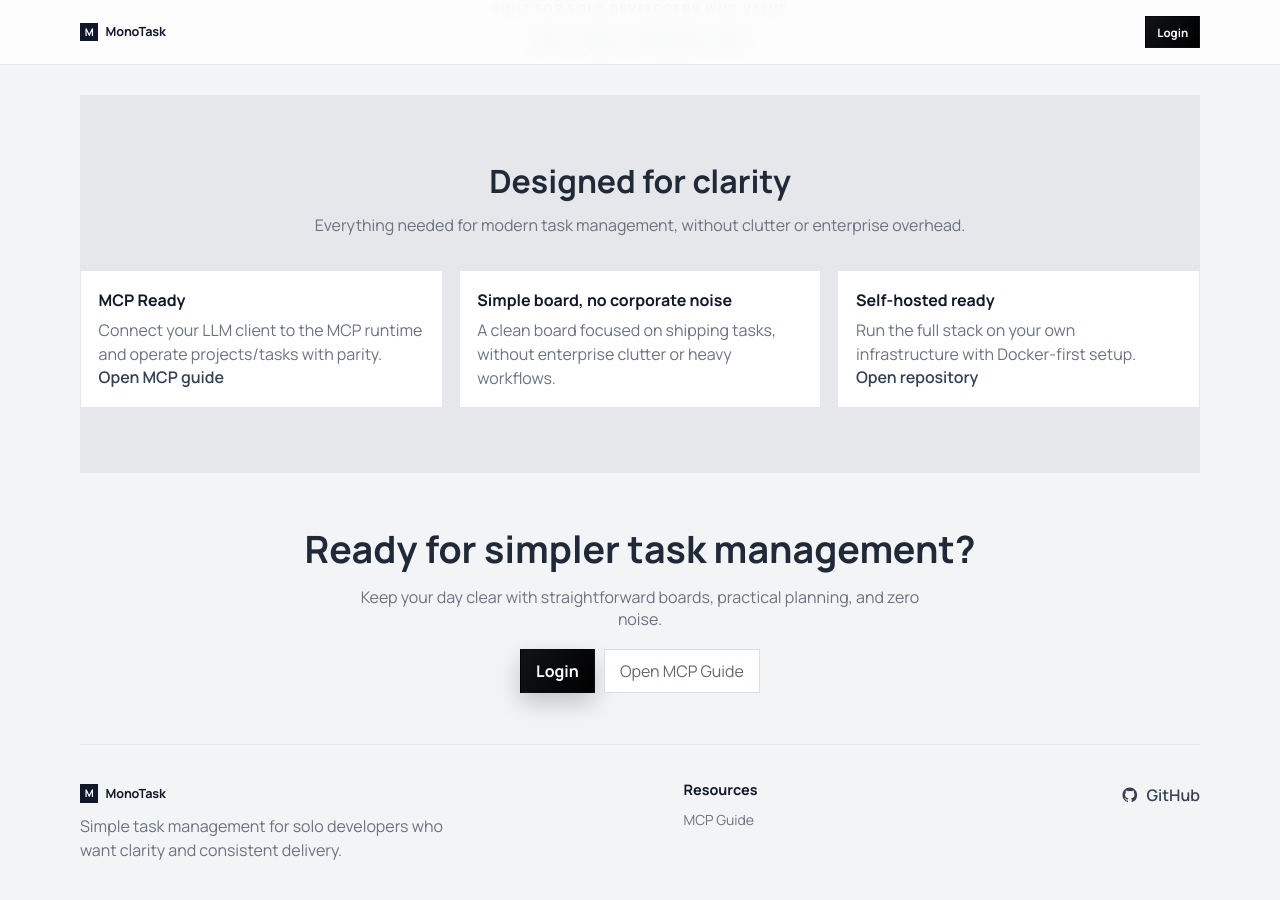
Scenario: App auth routing › navigates to MCP route from homepage footer link
(page scrolled)
Click the link "MCP Guide". click: [719, 819]
box: [684, 810, 754, 829]
(page scrolled)
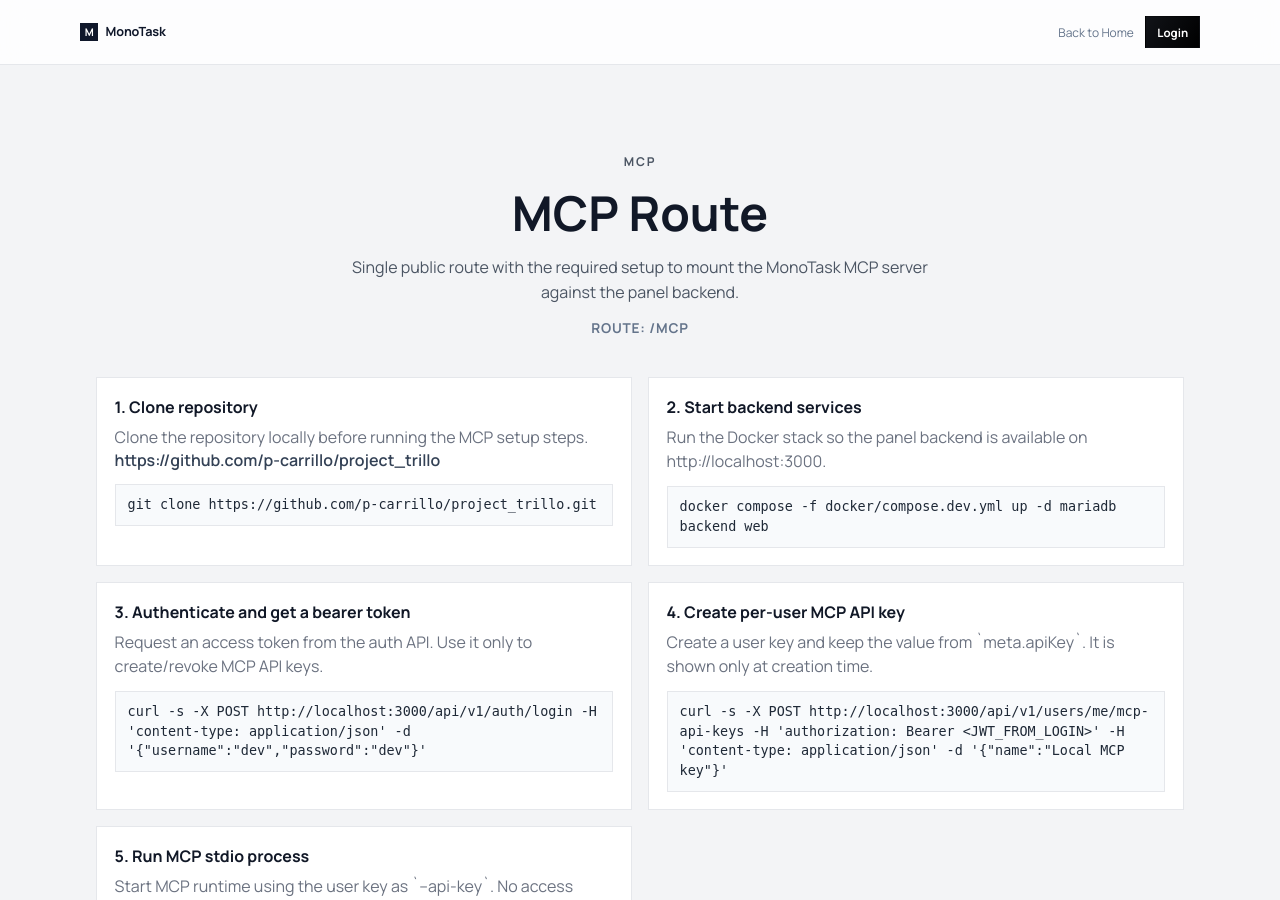
expect the heading "MCP Route" is shown: met, box [512, 180, 768, 245]
